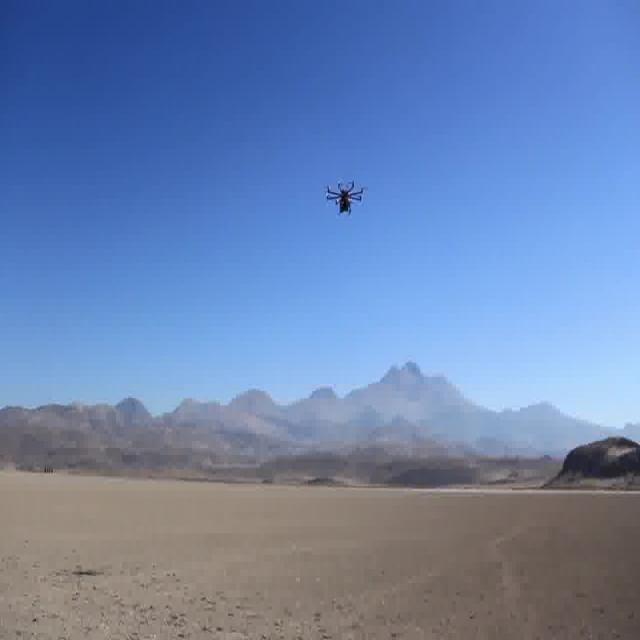drone: (324, 166, 369, 226)
